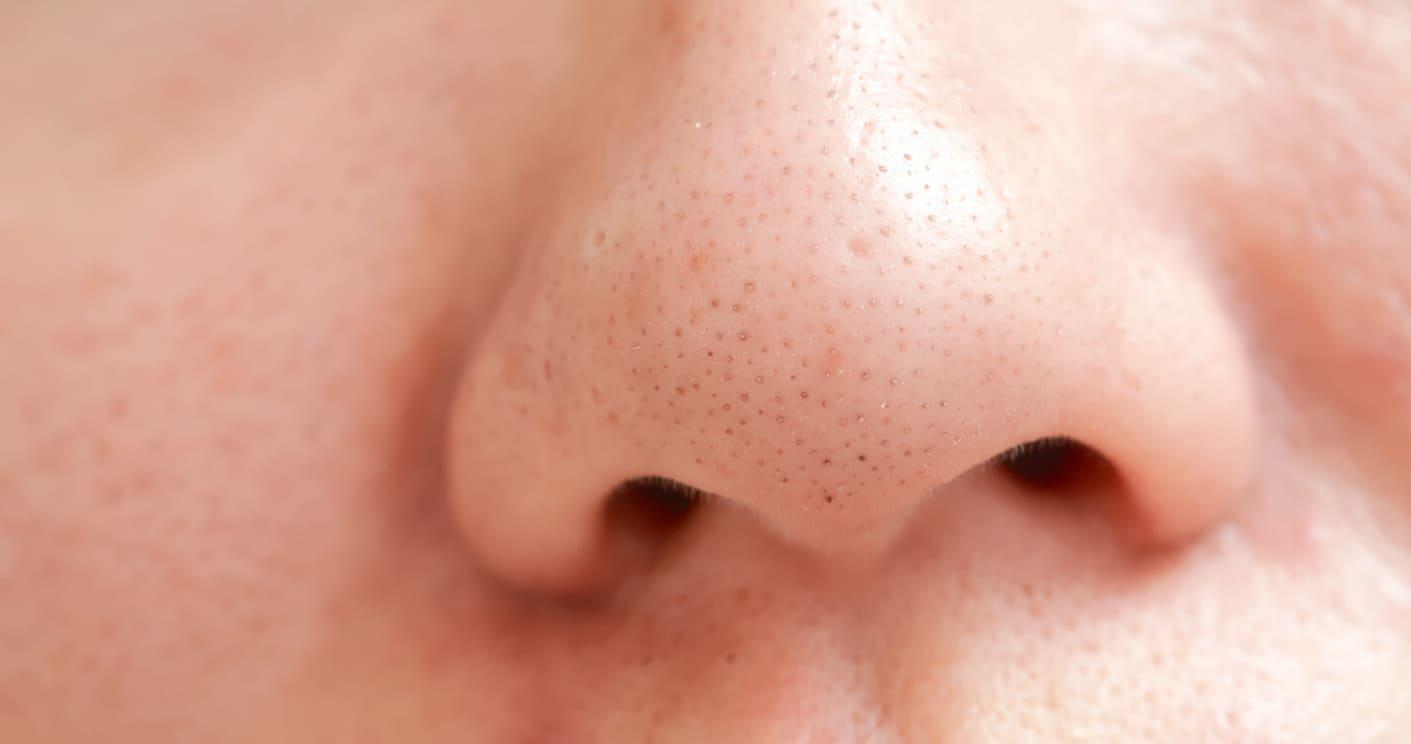Acne: (529, 175, 1112, 514)
